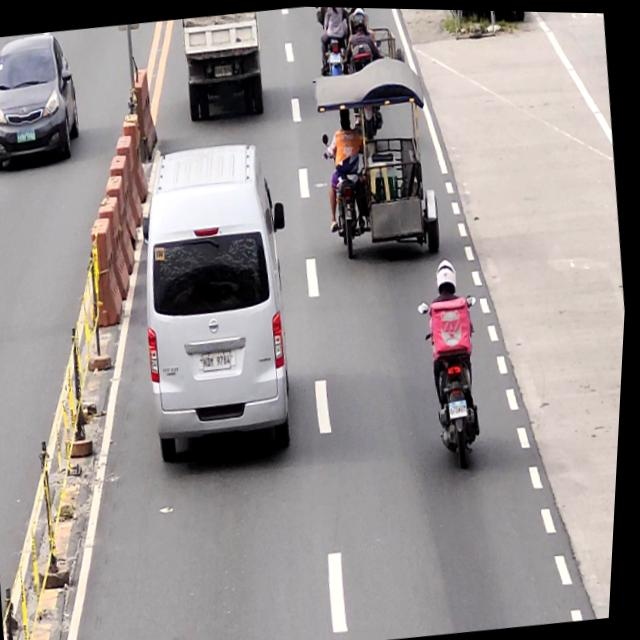Car: (122, 135, 318, 469)
License-Plate: (203, 347, 236, 370), (452, 396, 474, 418), (213, 62, 235, 77)
Motorcycle: (413, 290, 501, 470)
Tricycle: (309, 61, 453, 264)
Truck: (176, 9, 270, 119)
